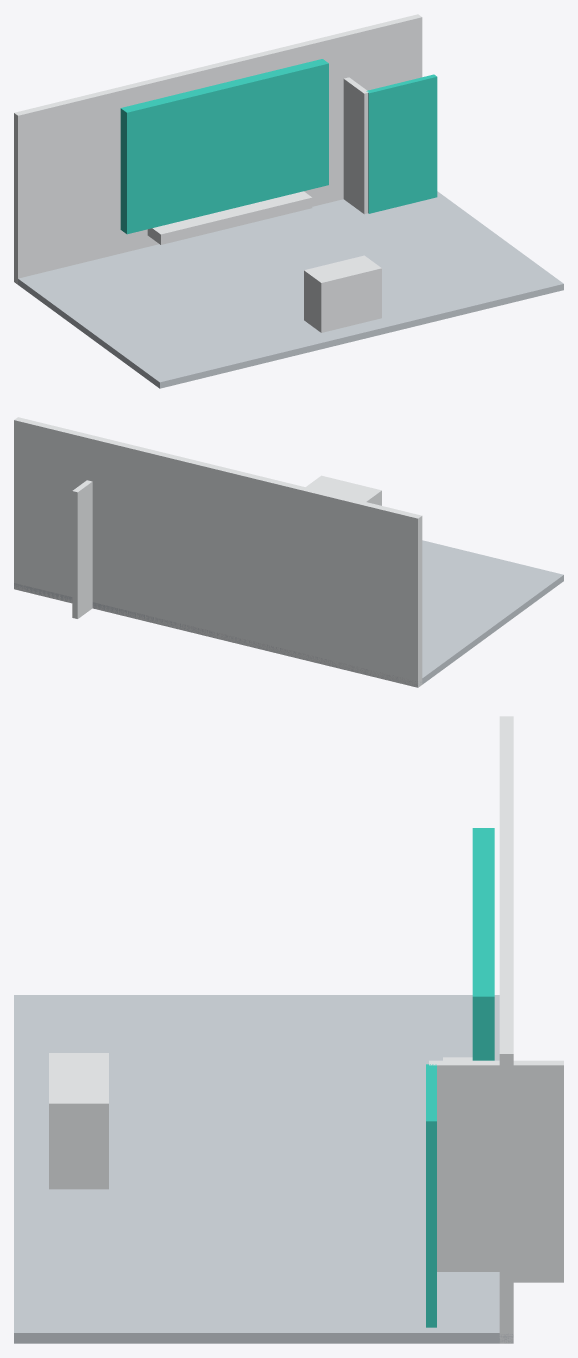
The picture shows the model from 3 angles, top to bottom: view 1: azimuth 30°, elevation 25°; view 2: azimuth 150°, elevation 25°; view 3: azimuth 270°, elevation 25°; orthographic projection. The views are drawn at different scales.
Parts seen in each view (by area): view 1: Exhibition Booth Concept; view 2: Exhibition Booth Concept; view 3: Exhibition Booth Concept.
Boxes of the visible parts, left/top/right/bottom form: Exhibition Booth Concept: left=14, top=14, right=563, bottom=388; Exhibition Booth Concept: left=14, top=417, right=563, bottom=687; Exhibition Booth Concept: left=14, top=716, right=563, bottom=1343.
Bounding box in the file's own units: 8 × 3.2 × 5.51.
